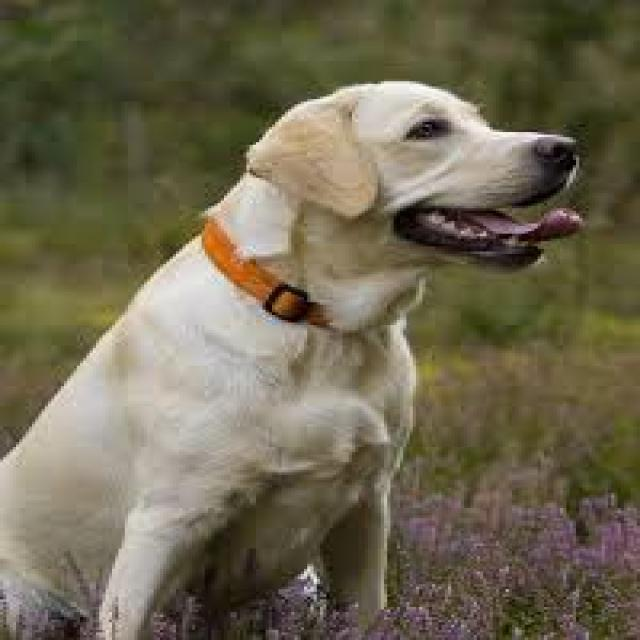dog: (1, 82, 585, 640)
